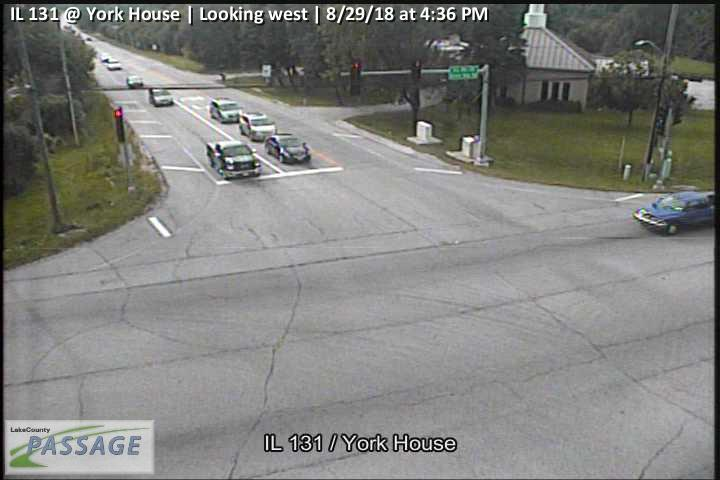Sedan: (631, 189, 713, 235), (205, 139, 261, 181), (264, 131, 310, 165), (237, 111, 277, 140), (208, 96, 242, 123), (147, 86, 175, 106), (125, 75, 144, 88)
